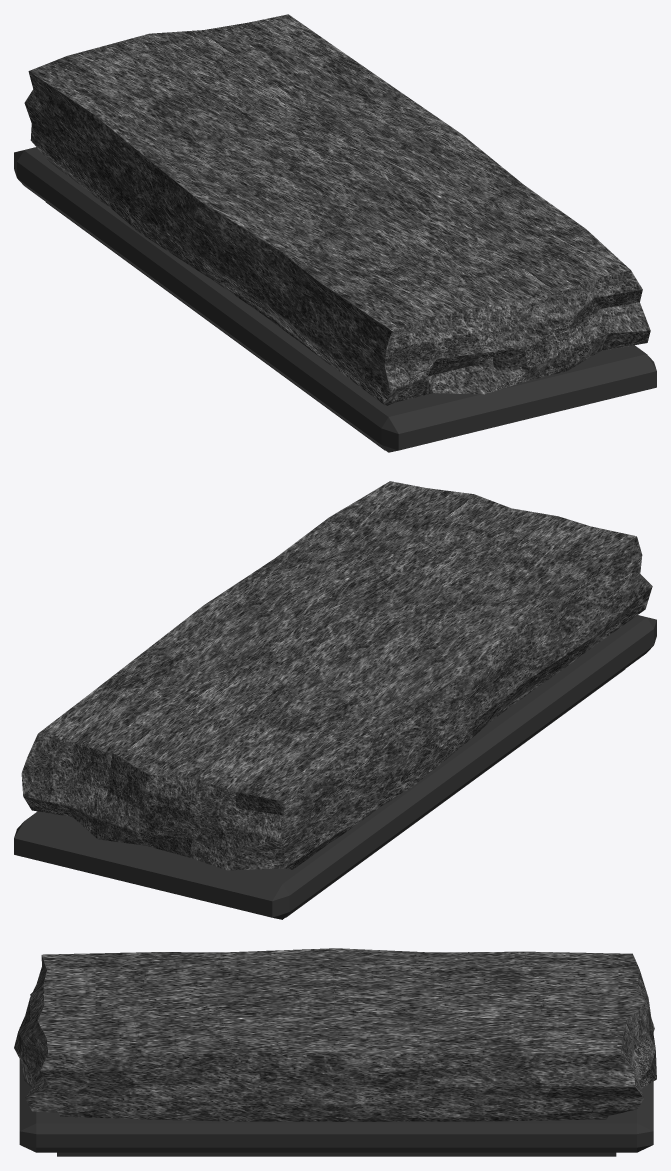
The model's file is eraser-2.fbx.
3 renders of one model, top to bottom at view 1: azimuth 30°, elevation 25°; view 2: azimuth 150°, elevation 25°; view 3: azimuth 270°, elevation 25°, orthographic. The views are drawn at different scales.
Parts seen in each view (by area): view 1: Cube; view 2: Cube; view 3: Cube.
Boxes of the visible parts, x1=… form: Cube: x1=14, y1=14, x2=656, y2=452; Cube: x1=14, y1=481, x2=656, y2=919; Cube: x1=14, y1=948, x2=656, y2=1156.
Size of the model in its own units: 12.54 by 5.75 by 30.43.
Materials: 3 (2 with a texture image).
